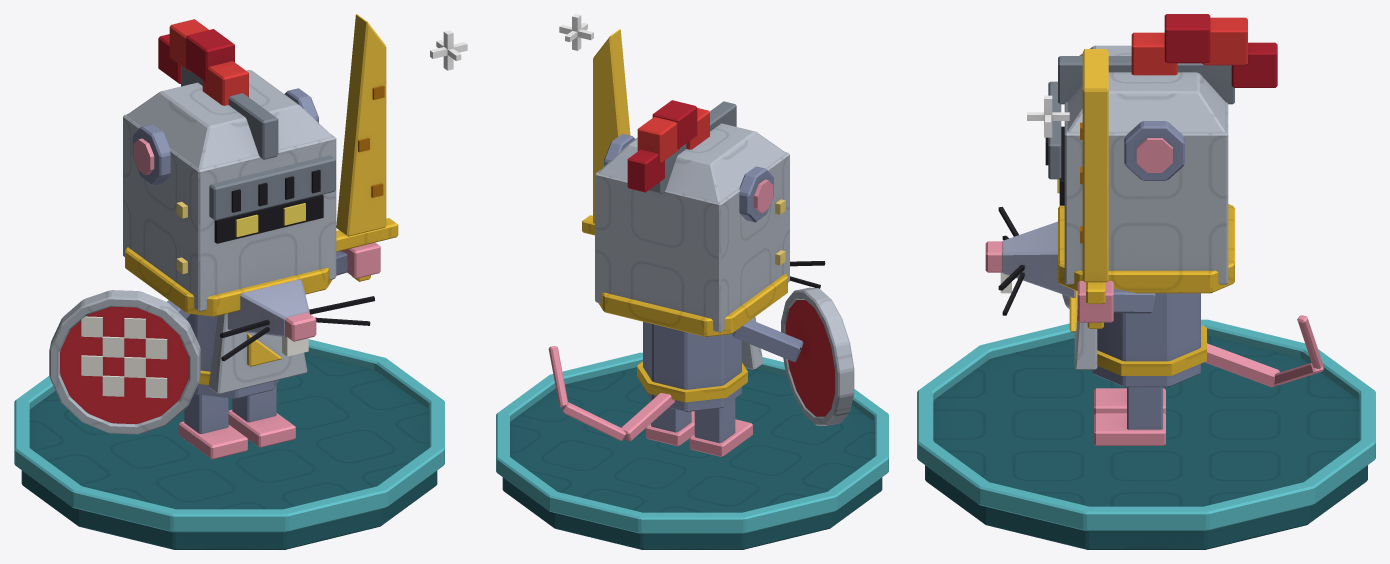
The model's file is RatKnight.fbx.
3 views of the same model, side by side, from view 1: azimuth 30°, elevation 25°; view 2: azimuth 150°, elevation 25°; view 3: azimuth 270°, elevation 25° (orthographic). The views are drawn at different scales.
Visible parts, largest first — view 1: Art_RatKnight_Stand, Art_RatKnight_Head, Art_RatKnight_ArmL, Art_RatKnight_ArmR, Art_RatKnight_Body, Art_RatKnight_Visor, Art_RatKnight_Plume, Art_RatKnight_LegL, Art_RatKnight_LegR, Art_RatKnight_EarL; view 2: Art_RatKnight_Stand, Art_RatKnight_Head, Art_RatKnight_ArmL, Art_RatKnight_Body, Art_RatKnight_Plume, Art_RatKnight_ArmR, Art_RatKnight_Tail, Art_RatKnight_LegL, Art_RatKnight_EarL, Art_RatKnight_LegR; view 3: Art_RatKnight_Stand, Art_RatKnight_Head, Art_RatKnight_Body, Art_RatKnight_ArmR, Art_RatKnight_Plume, Art_RatKnight_LegR, Art_RatKnight_EarR, Art_RatKnight_Tail, Art_RatKnight_Visor, Art_RatKnight_LegL.
Part boxes in pixels (<box>): Art_RatKnight_Stand: <box>14,30,467,549</box>; Art_RatKnight_Head: <box>123,66,374,361</box>; Art_RatKnight_ArmL: <box>49,290,200,434</box>; Art_RatKnight_ArmR: <box>336,14,398,281</box>; Art_RatKnight_Body: <box>186,313,307,398</box>; Art_RatKnight_Visor: <box>209,155,335,220</box>; Art_RatKnight_Plume: <box>158,19,248,105</box>; Art_RatKnight_LegL: <box>178,392,247,459</box>; Art_RatKnight_LegR: <box>228,384,295,447</box>; Art_RatKnight_EarL: <box>132,124,170,185</box>; Art_RatKnight_Stand: <box>496,14,888,549</box>; Art_RatKnight_Head: <box>595,101,825,336</box>; Art_RatKnight_ArmL: <box>732,287,854,425</box>; Art_RatKnight_Body: <box>637,317,763,411</box>; Art_RatKnight_Plume: <box>627,100,709,192</box>; Art_RatKnight_ArmR: <box>582,29,630,235</box>; Art_RatKnight_Tail: <box>548,346,674,441</box>; Art_RatKnight_LegL: <box>689,398,752,456</box>; Art_RatKnight_EarL: <box>739,166,773,222</box>; Art_RatKnight_LegR: <box>646,408,694,446</box>; Art_RatKnight_Stand: <box>917,95,1375,549</box>; Art_RatKnight_Head: <box>985,45,1234,315</box>; Art_RatKnight_Body: <box>1069,291,1206,387</box>; Art_RatKnight_ArmR: <box>1077,49,1155,328</box>; Art_RatKnight_Plume: <box>1131,14,1277,87</box>; Art_RatKnight_LegR: <box>1094,387,1165,445</box>; Art_RatKnight_EarR: <box>1124,121,1184,180</box>; Art_RatKnight_Tail: <box>1204,315,1323,387</box>; Art_RatKnight_Visor: <box>1045,81,1061,179</box>; Art_RatKnight_LegL: <box>1094,388,1165,414</box>.
Size of the model in its own units: 2.83 by 3.13 by 2.8.
